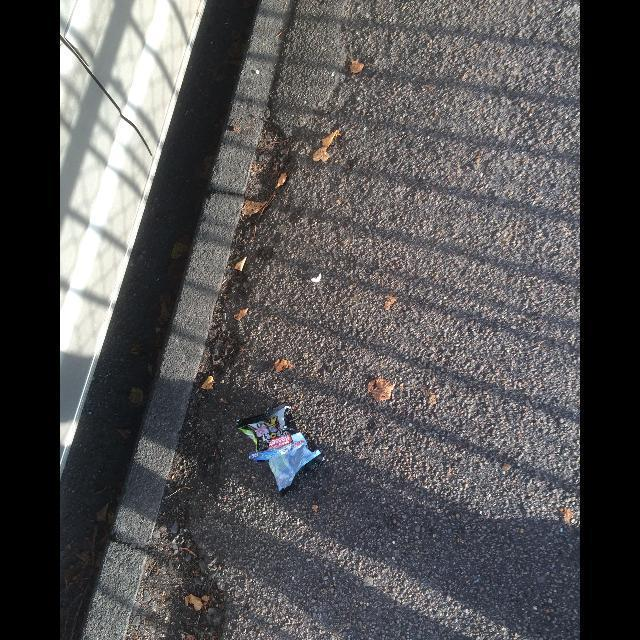Plastic: (236, 402, 326, 498)
